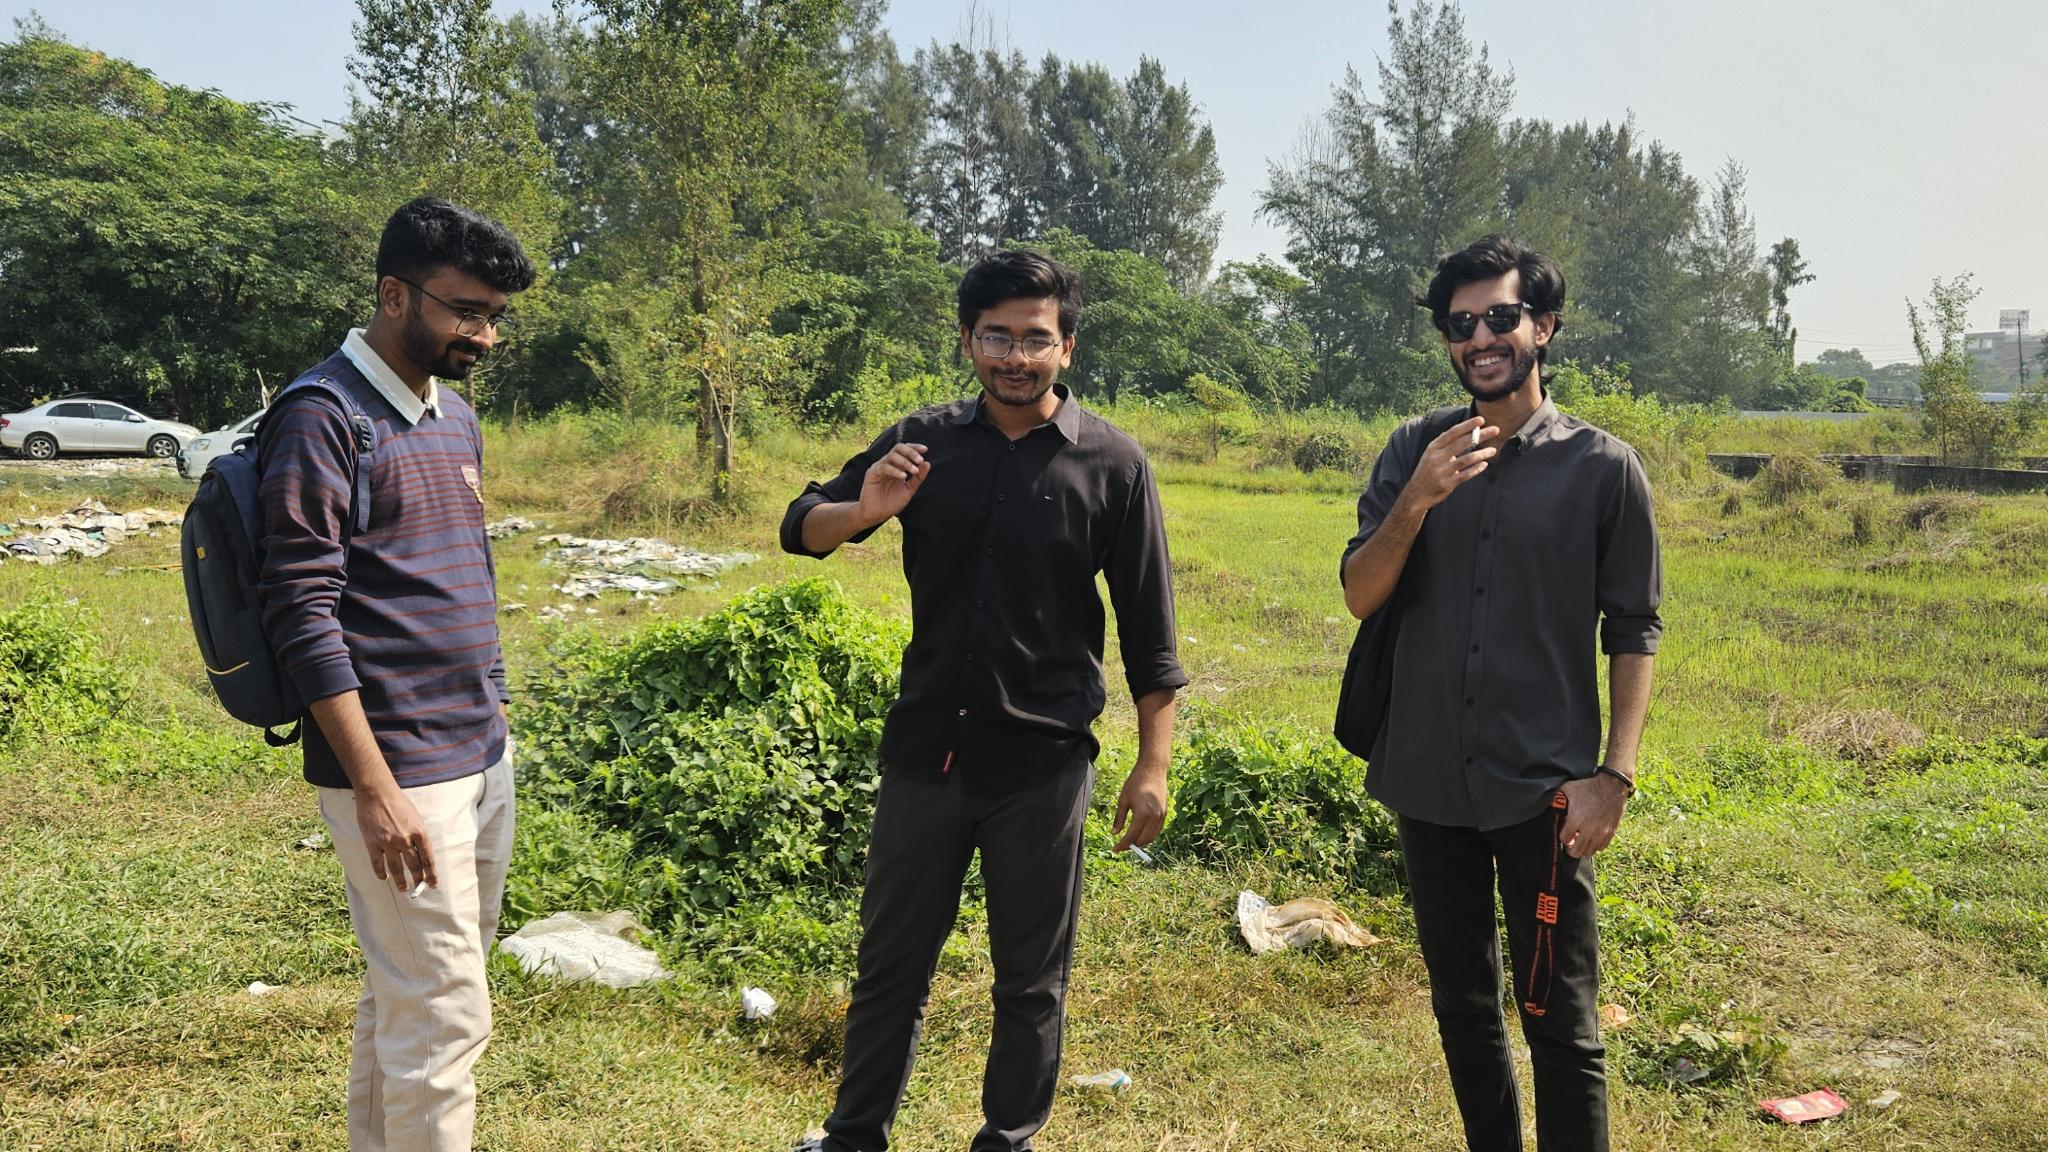cigarette: (1128, 843, 1155, 866), (408, 873, 430, 902), (1470, 423, 1483, 449)
smoker: (781, 249, 1190, 1152), (180, 196, 536, 1152), (1332, 233, 1663, 1152)
